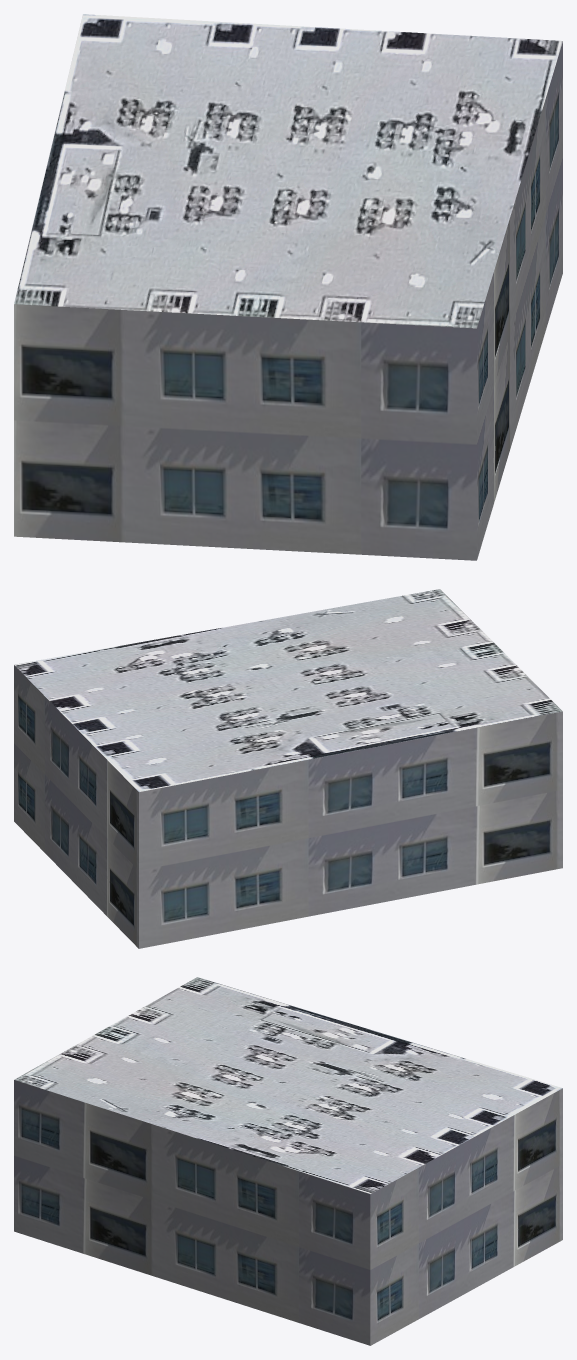
File: ResTex__4696.fbx
3 views of the same model, one above another, from view 1: azimuth 30°, elevation 25°; view 2: azimuth 150°, elevation 25°; view 3: azimuth 270°, elevation 25° (orthographic). The views are drawn at different scales.
Parts seen in each view (by area): view 1: CityEngineMaterial_2_m, CityEngineMaterial_10_m; view 2: CityEngineMaterial_10_m, CityEngineMaterial_2_m; view 3: CityEngineMaterial_10_m, CityEngineMaterial_2_m.
Boxes of the visible parts, x1,y1,x2,y2 form: CityEngineMaterial_2_m: (14,14,562,328); CityEngineMaterial_10_m: (14,41,562,560); CityEngineMaterial_10_m: (14,665,562,948); CityEngineMaterial_2_m: (14,589,562,791); CityEngineMaterial_10_m: (14,1080,562,1345); CityEngineMaterial_2_m: (14,977,562,1193).
Size of the model in its own units: 18.41 by 6 by 19.67.
2 materials, 2 textured.
